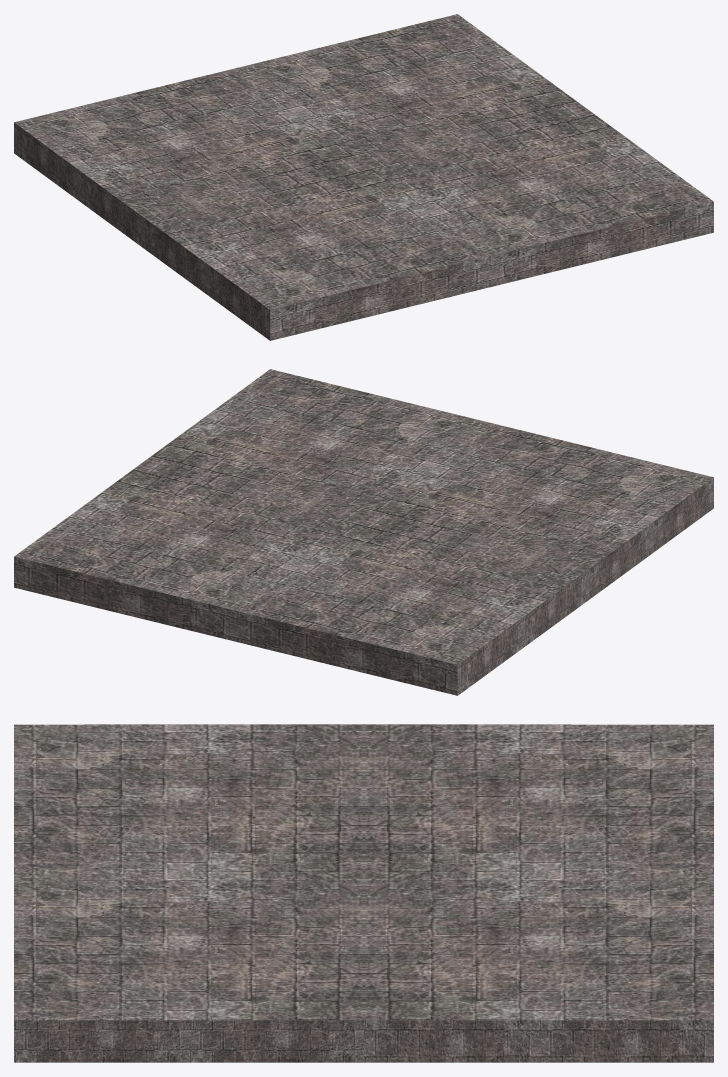
The model's file is floor02.obj.
3 renders of one model, top to bottom at view 1: azimuth 30°, elevation 25°; view 2: azimuth 150°, elevation 25°; view 3: azimuth 270°, elevation 25°, orthographic. The views are drawn at different scales.
Parts seen in each view (by area): view 1: 0, 1; view 2: 1, 0; view 3: 1, 0.
Boxes of the visible parts, left/top/right/bottom form: 0: left=142, top=108, right=713, bottom=340; 1: left=14, top=14, right=585, bottom=246; 1: left=14, top=463, right=585, bottom=695; 0: left=142, top=369, right=713, bottom=601; 1: left=364, top=724, right=713, bottom=1062; 0: left=14, top=724, right=363, bottom=1062.
Size of the model in its own units: 300 by 20 by 300.
